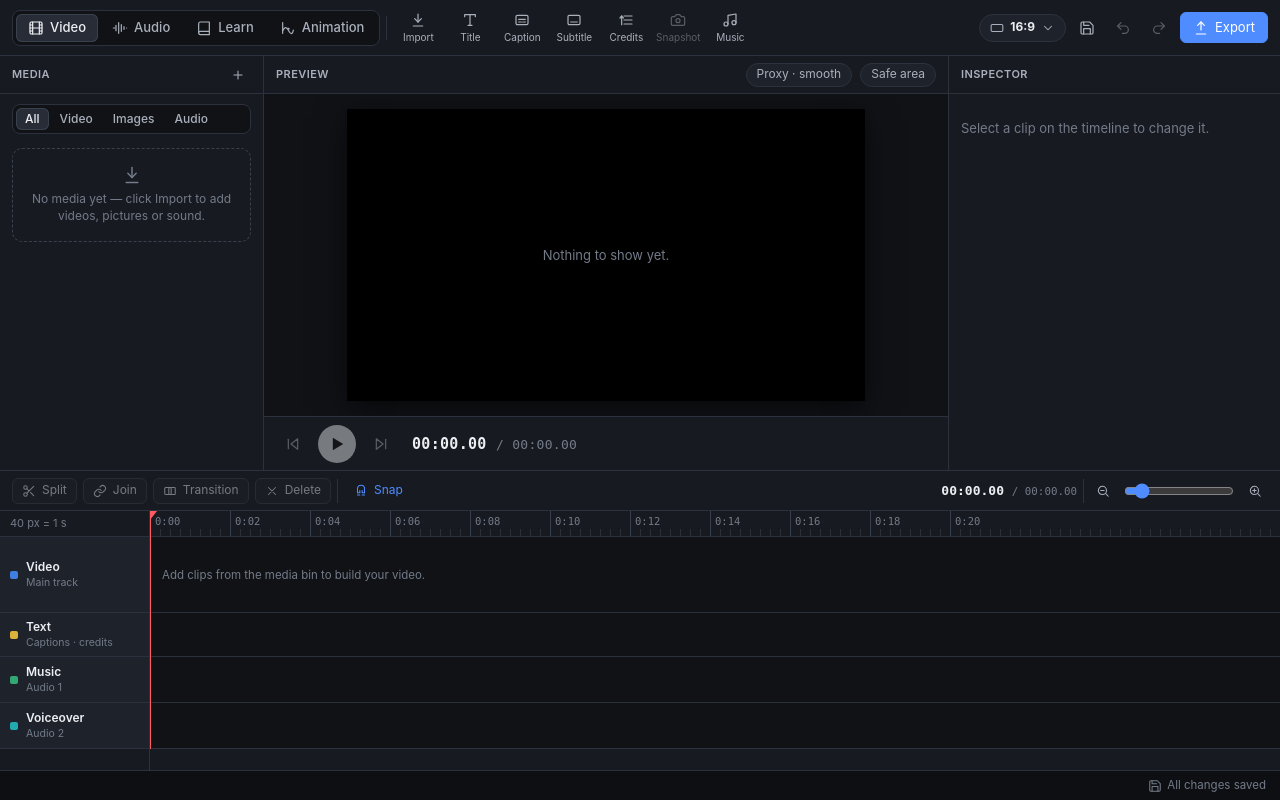
Test case: the timeline (AN8) › numbers the frames every 5 and shows the seconds under them
Click the button "Animation" at (322, 28), box x1=268 y1=14 x2=376 y2=42
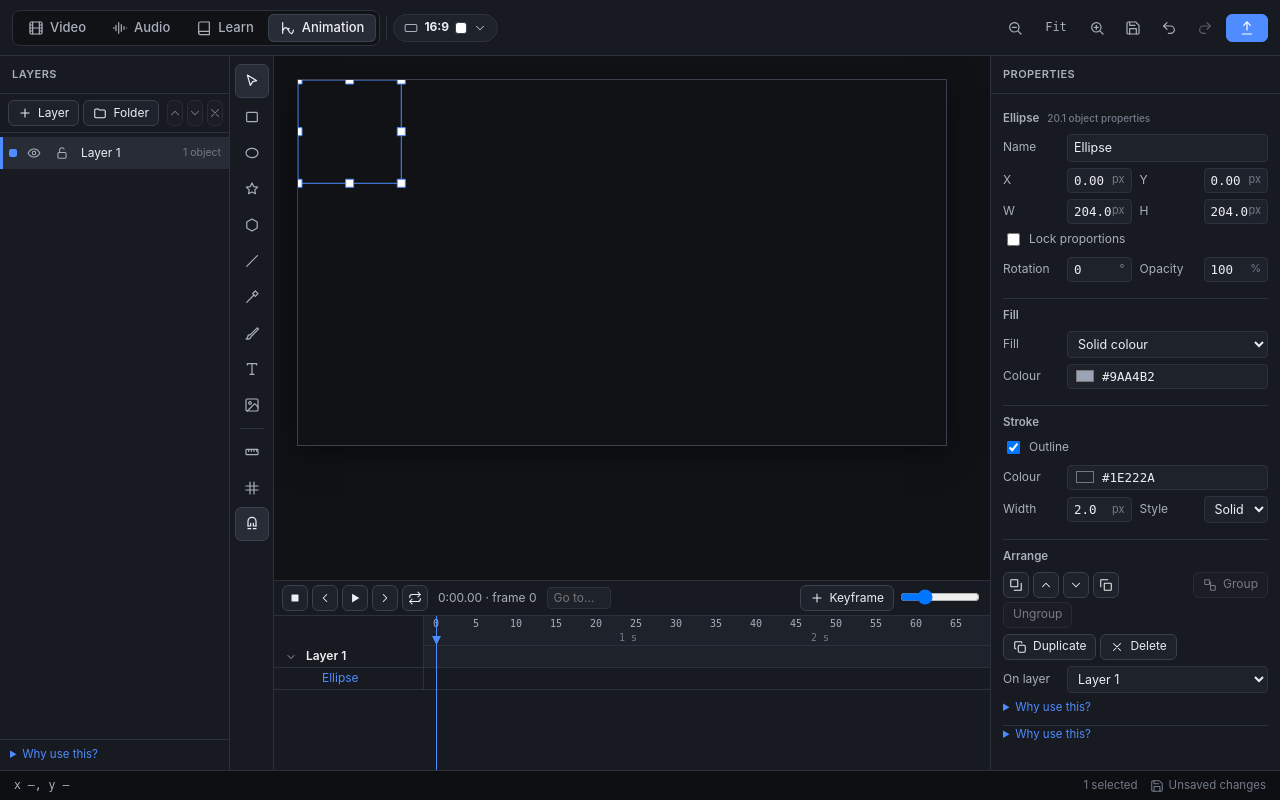
Expected: the text "5" is shown, x1=473 y1=617 x2=479 y2=631
Expected: the text "25" is shown, x1=630 y1=617 x2=642 y2=631
Expected: the text "1 s" is shown, x1=619 y1=631 x2=637 y2=645
